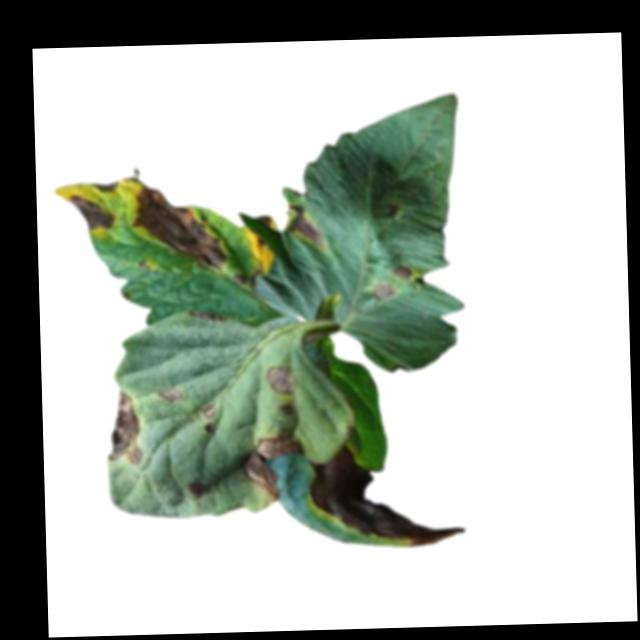Early_blight: (308, 439, 467, 547), (131, 181, 228, 275), (240, 430, 304, 498), (105, 386, 145, 466), (65, 190, 116, 233), (289, 202, 325, 251), (262, 363, 294, 395), (190, 309, 224, 326), (154, 383, 181, 403), (374, 281, 397, 300), (392, 260, 411, 279), (252, 231, 267, 254), (94, 178, 119, 191), (198, 400, 215, 419)
